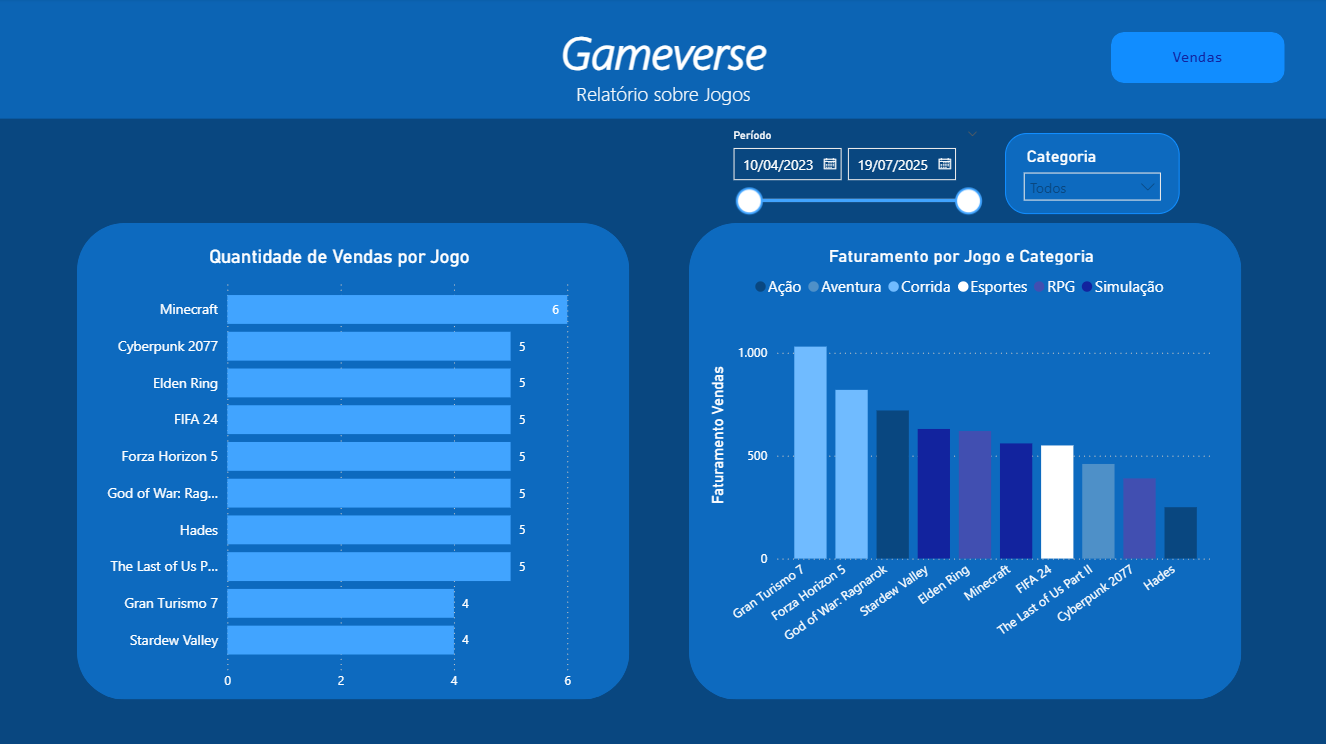

Layout of this report page (visuals, bound fields, positions):
{"tool":"powerbi","page":{"name":"Jogos","canvas":[1280,720],"ordinal":1},"visuals":[{"type":"shape","box":[76.4,216.4,531.2,458.3],"z":0},{"type":"textbox","box":[0,0,1280,115.6],"z":1000},{"type":"slicer","fields":{"Values":["Categorias.nome"]},"box":[968.7,129.6,167.8,77.5],"z":2000},{"type":"slicer","fields":{"Values":["Vendas.data_venda"]},"box":[694.4,120.4,260.4,96.1],"z":3000},{"type":"shape","box":[664.3,216.4,531.2,458.3],"z":4000},{"type":"barChart","title":"Quantidade de Vendas por Jogo","fields":{"Category":["Jogos.titulo"],"Y":["Sum(Itens_venda.quantidade)"]},"box":[86.8,237.3,483.8,437.5],"z":5000},{"type":"columnChart","title":"Faturamento por Jogo e Categoria","fields":{"Category":["Jogos.titulo"],"Y":["Medidas.Faturamento Vendas"],"Series":["Categorias.nome"]},"box":[679.3,237.3,495.3,406.2],"z":6000},{"type":"pageNavigator","box":[1070.4,32.8,167.3,49.8],"z":6001}]}

Visuals, with their boxes in screenshot pixels (x1, y1, x2, y2), scaled from the page's 1280x720 canvas onto the 1326x744 screenshot:
shape: region(79, 224, 629, 697)
textbox: region(0, 0, 1325, 119)
slicer - Categorias.nome: region(1004, 134, 1177, 214)
slicer - Vendas.data_venda: region(719, 124, 989, 224)
shape: region(688, 224, 1238, 697)
"Quantidade de Vendas por Jogo" barChart: region(90, 245, 591, 697)
"Faturamento por Jogo e Categoria" columnChart: region(704, 245, 1217, 665)
pageNavigator: region(1109, 34, 1282, 85)
